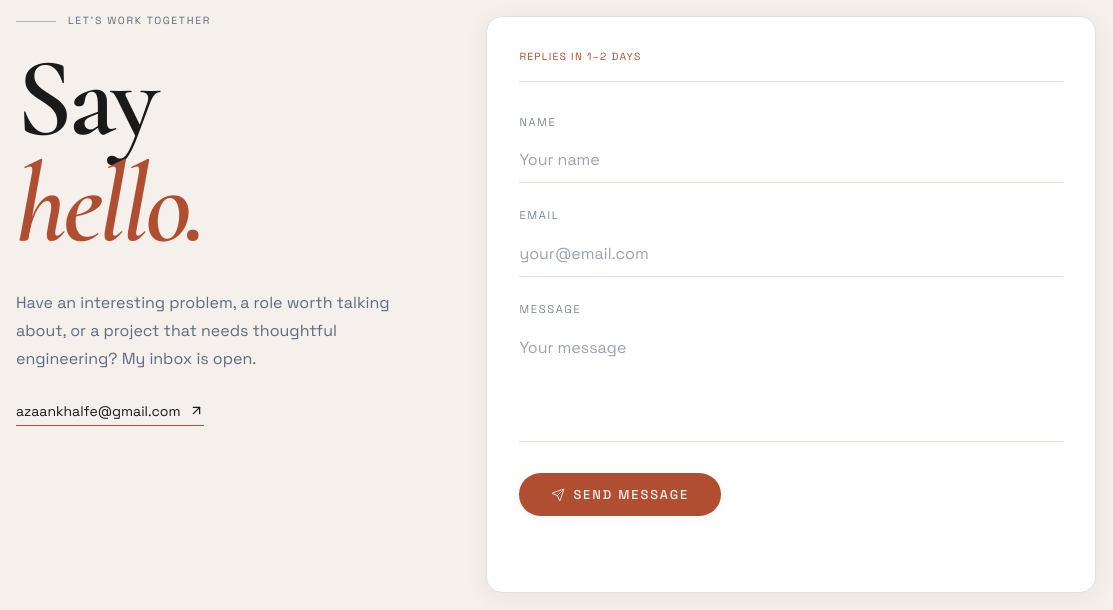
Test: ContactPage › reports network failures without losing the message
Type "Ada Lovelace" into the field labelled "Name" at (791, 161), box [519,138,1063,183]
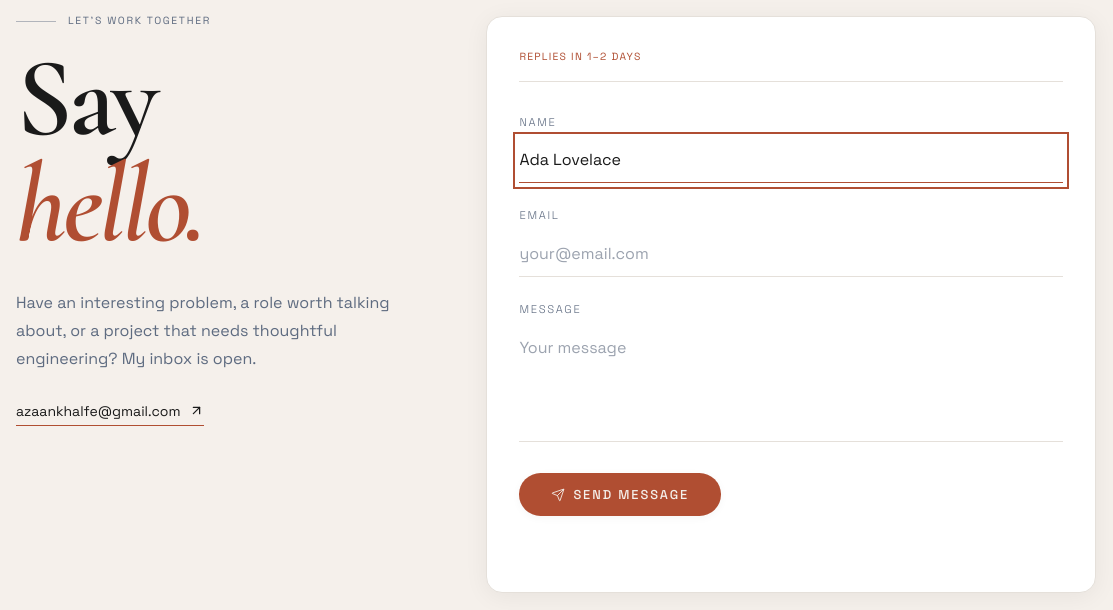
Type "ada@example.com" into the field labelled "Email" at (791, 255), box [519,232,1063,277]
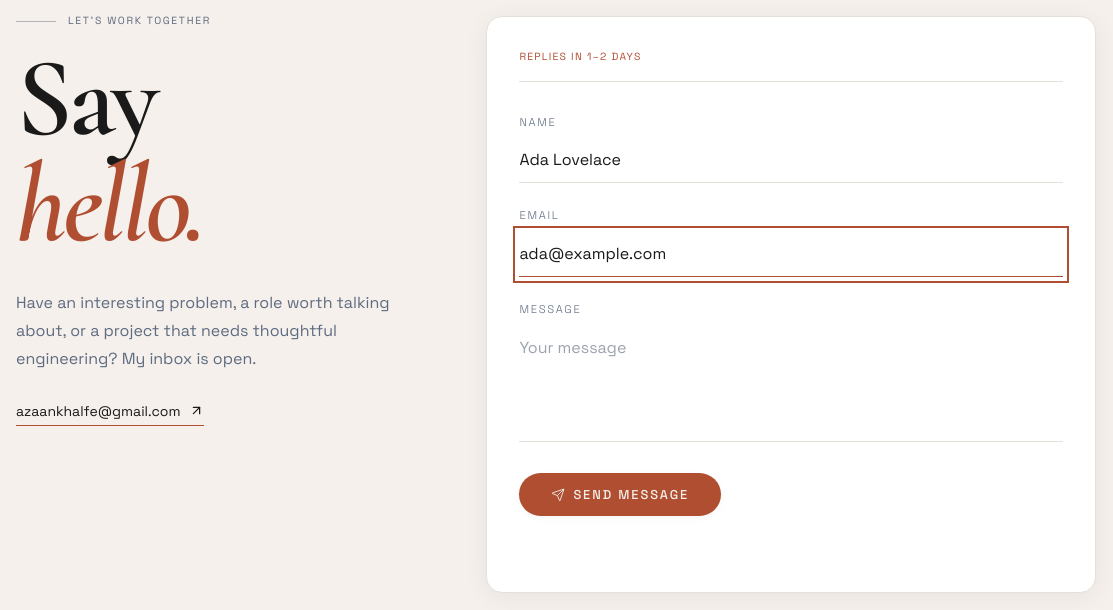
Type "I would love to chat about a role." into the text box labelled "Message" at (791, 384), box [519,326,1063,442]
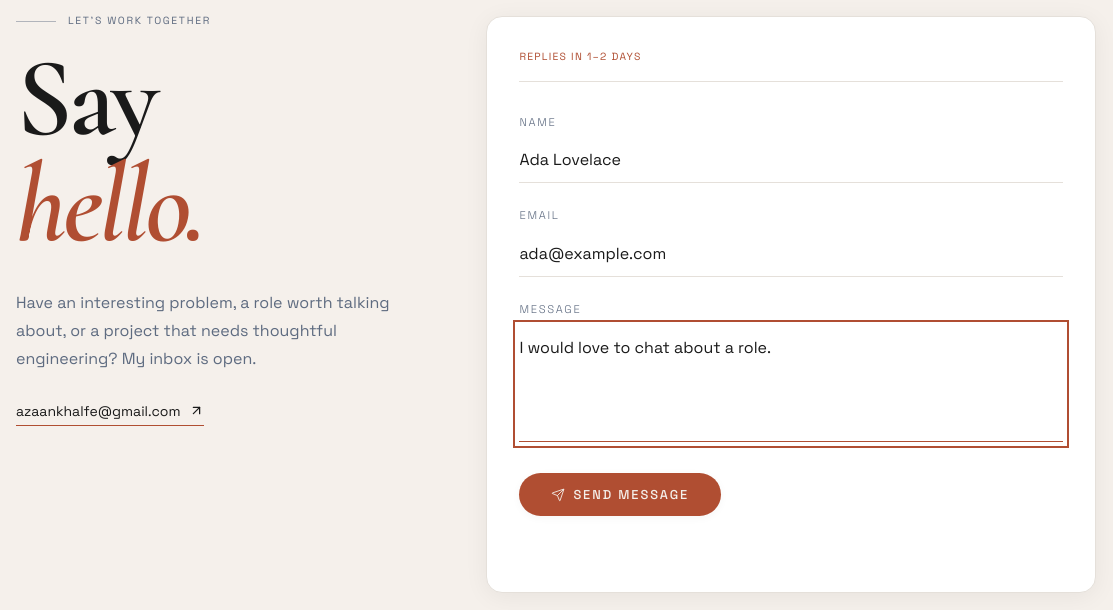
Click the button "Send Message" at (620, 495), box [519,473,721,516]
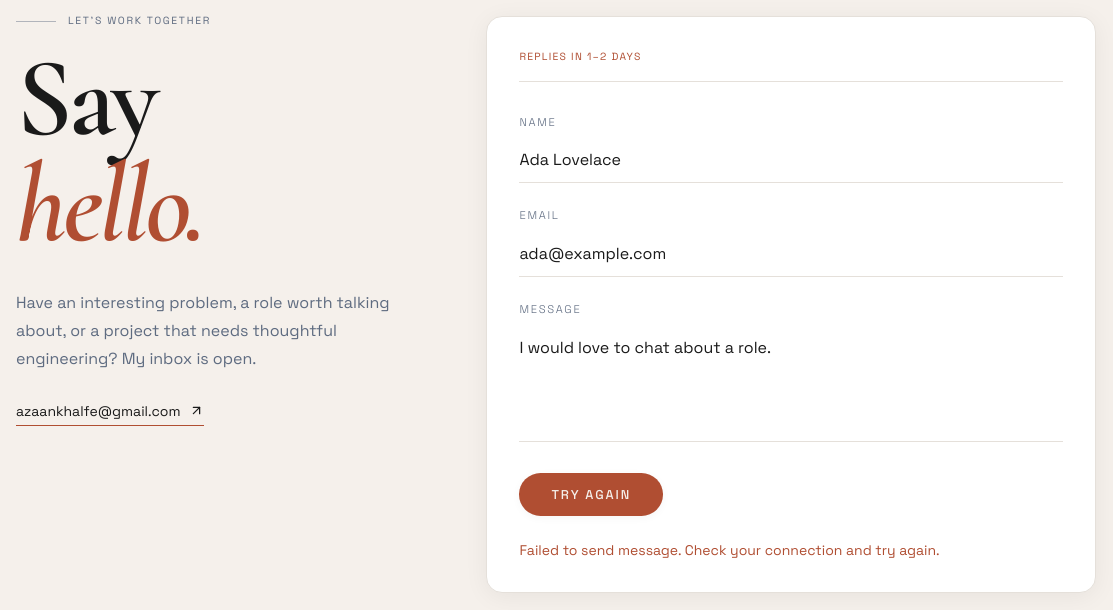
Now the text "Failed to send message. Check your connection and try again." is shown, box [519,541,940,559]
